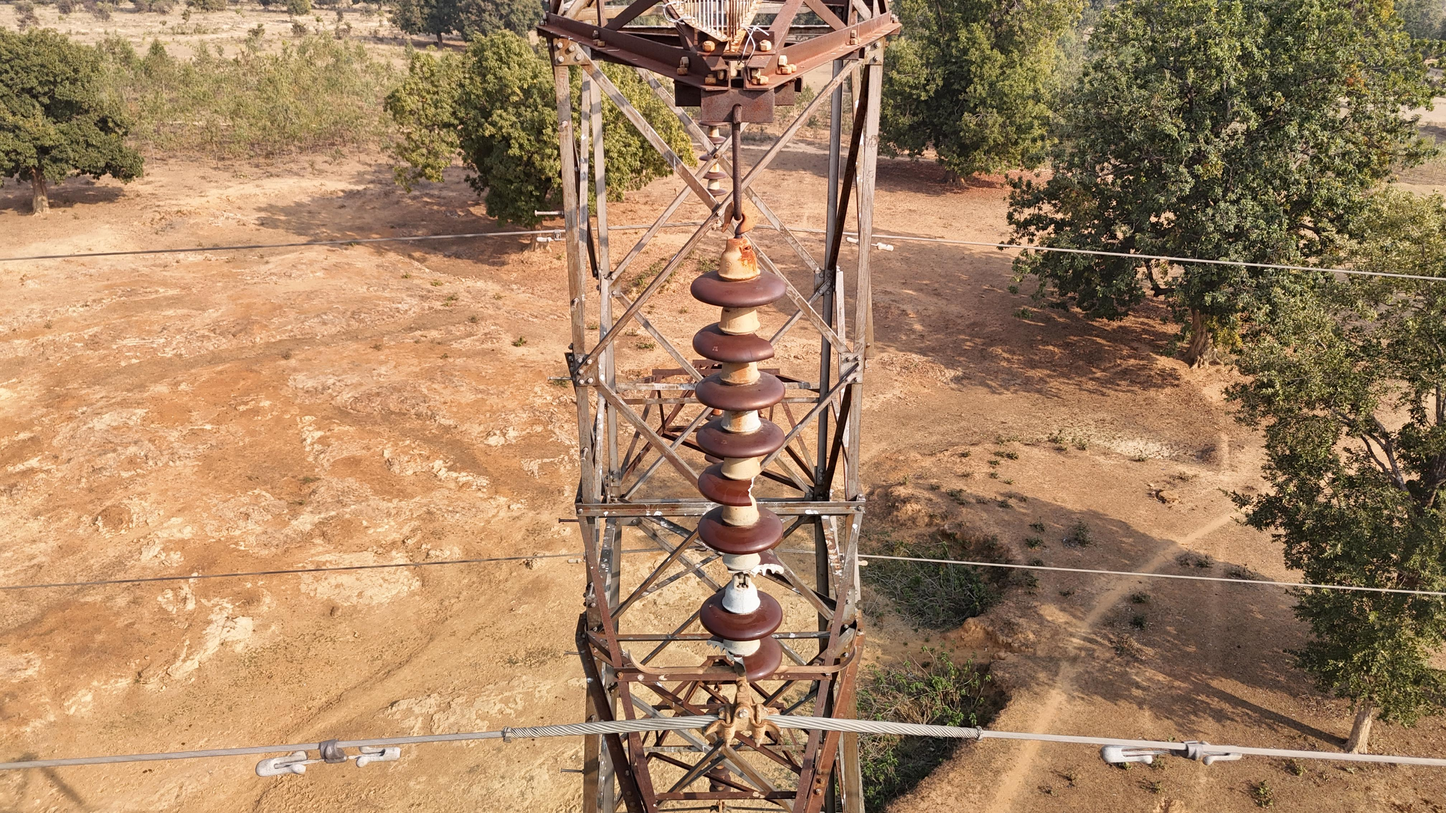broken_insulator: (700, 636, 784, 683), (692, 321, 783, 364), (697, 463, 782, 508), (701, 554, 787, 596)
